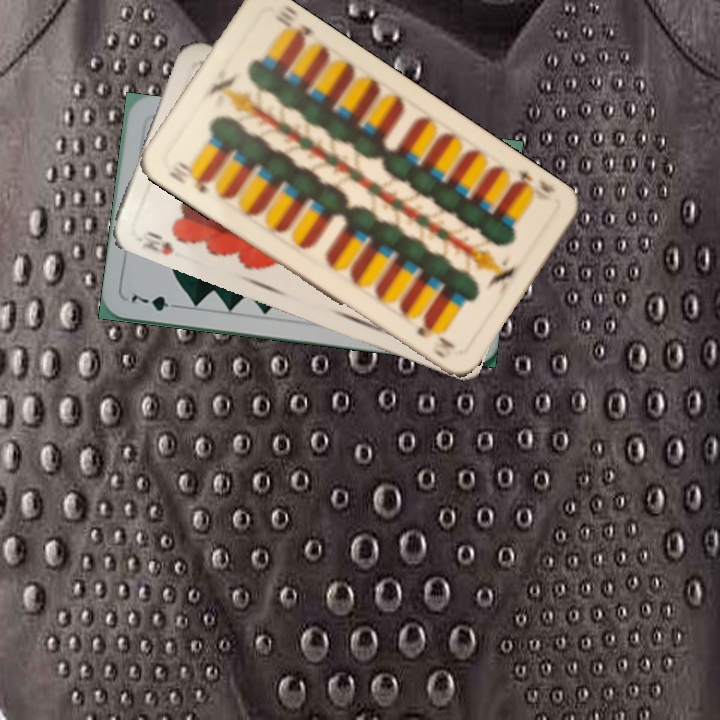E10: (165, 157, 215, 197), (507, 165, 559, 203)
G7: (127, 290, 184, 314)
H10: (138, 227, 176, 258)
